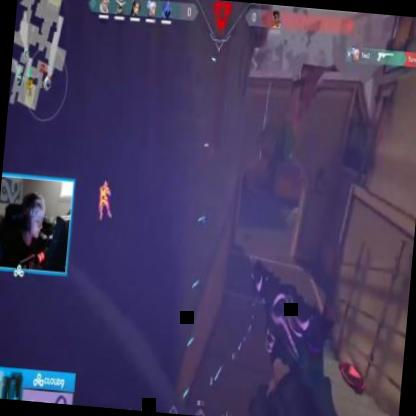enemy: (98, 178, 113, 220)
enemy_head: (103, 180, 108, 190)
